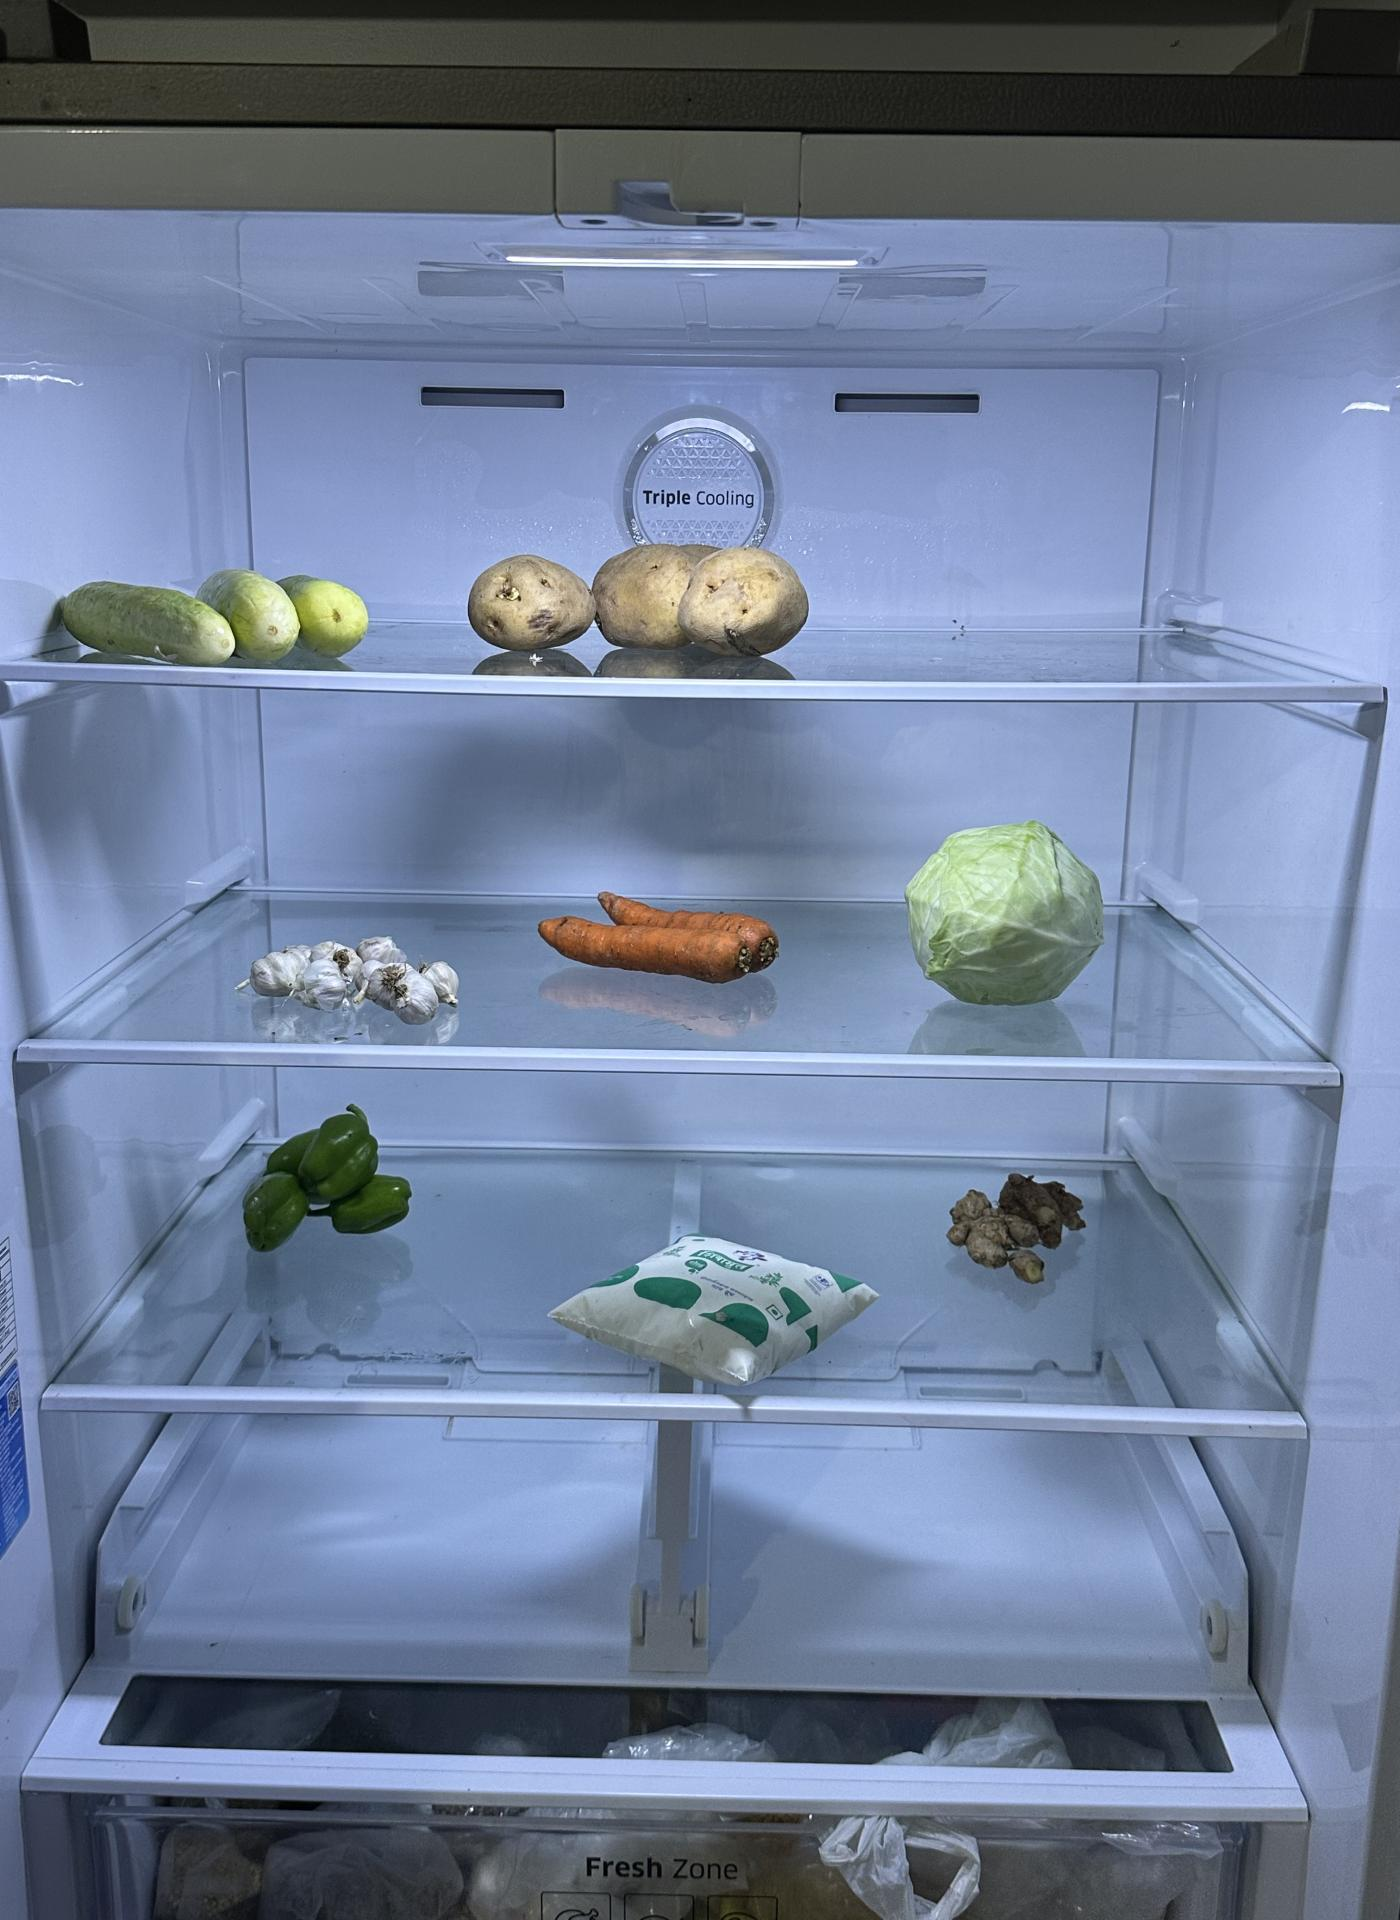cabbage: (902, 808, 1109, 1006)
capsicum: (239, 1100, 416, 1251)
carrots: (534, 882, 789, 987)
cucumber: (46, 555, 377, 669)
garlic: (250, 920, 465, 1026)
ginger: (939, 1160, 1090, 1286)
milk: (549, 1219, 872, 1380)
potato: (473, 534, 807, 663)
